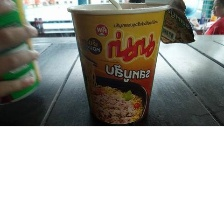paper_cup: (64, 0, 174, 126)
